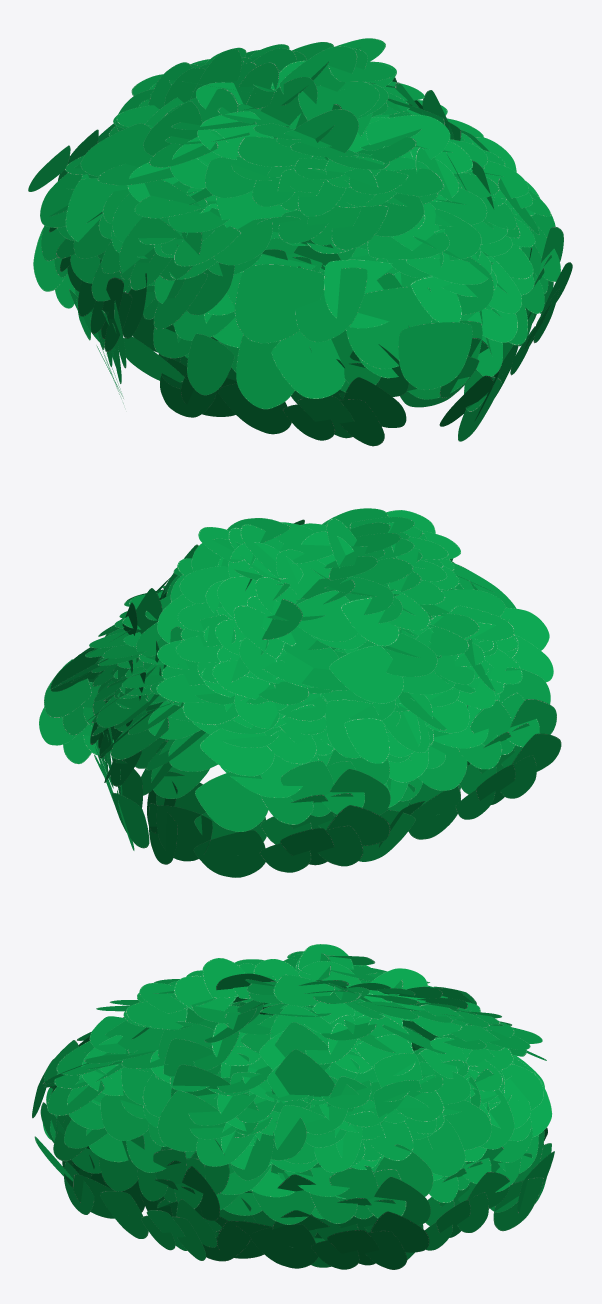
Rendered from bush.fbx.
3 views of the same model, one above another, from view 1: azimuth 30°, elevation 25°; view 2: azimuth 150°, elevation 25°; view 3: azimuth 270°, elevation 25° (orthographic). The views are drawn at different scales.
Parts seen in each view (by area): view 1: bush_REN; view 2: bush_REN; view 3: bush_REN.
Part boxes in pixels (bbox=[...]): bush_REN: bbox=[28, 38, 572, 446]; bush_REN: bbox=[39, 508, 561, 877]; bush_REN: bbox=[32, 944, 554, 1269].
Bounding box in the file's own units: 156 × 97.94 × 183.
